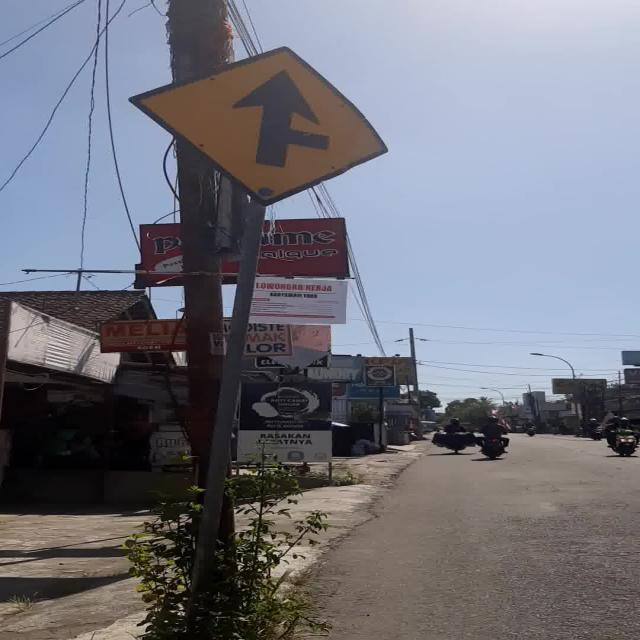Persimpangan 3 Prioritas Kanan: (126, 45, 390, 206)
